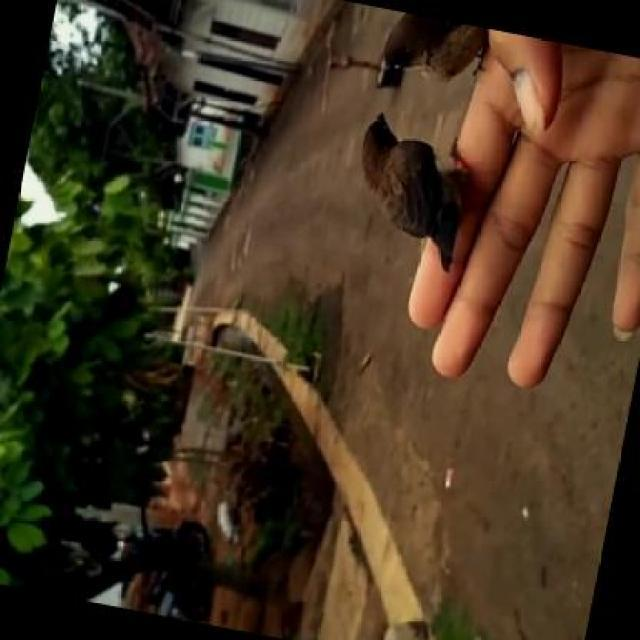Bird: (339, 103, 496, 283), (356, 8, 501, 85)
